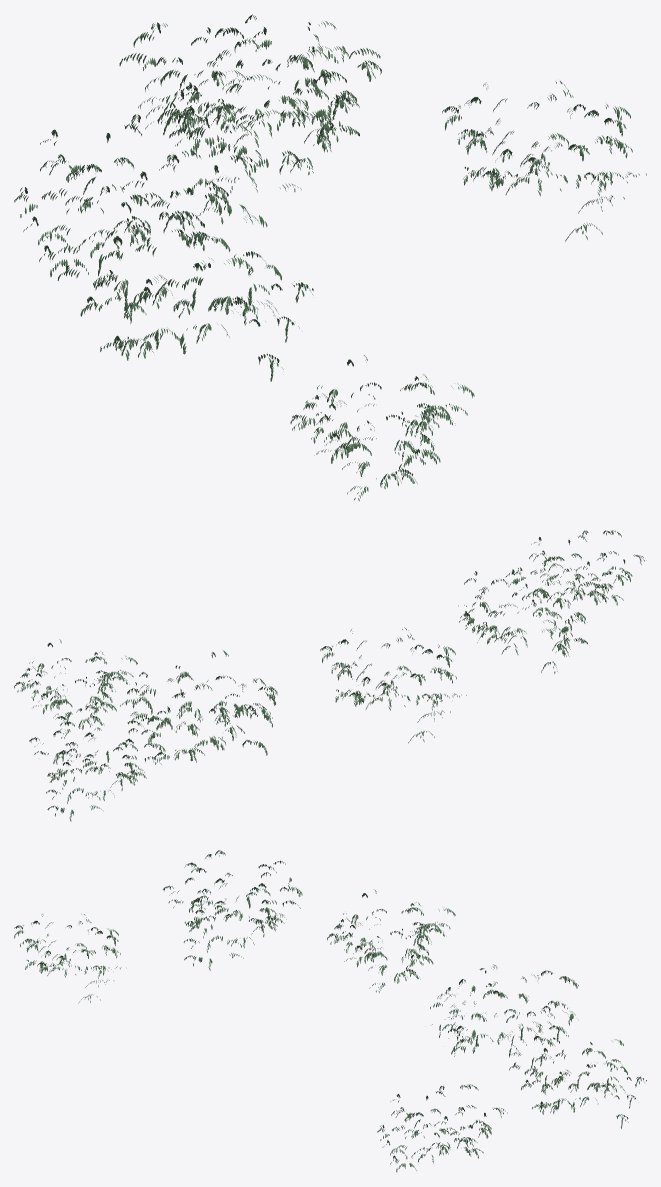
The model's file is eucalyptus--leaf-olive.glb.
3 views of the same model, one above another, from view 1: azimuth 30°, elevation 25°; view 2: azimuth 150°, elevation 25°; view 3: azimuth 270°, elevation 25° (orthographic). The views are drawn at different scales.
Parts seen in each view (by area): view 1: eucalyptus-4, eucalyptus-2, eucalyptus-1, eucalyptus-6, eucalyptus-3, eucalyptus-5; view 2: eucalyptus-2, eucalyptus-4, eucalyptus-6, eucalyptus-1, eucalyptus-3, eucalyptus-5; view 3: eucalyptus-4, eucalyptus-2, eucalyptus-1, eucalyptus-6, eucalyptus-3, eucalyptus-5.
Part boxes in pixels (bbox=[...]): eucalyptus-4: bbox=[57, 214, 313, 381]; eucalyptus-2: bbox=[119, 14, 351, 224]; eucalyptus-1: bbox=[14, 112, 258, 276]; eucalyptus-6: bbox=[182, 21, 381, 175]; eucalyptus-3: bbox=[442, 81, 646, 241]; eucalyptus-5: bbox=[290, 355, 474, 501]; eucalyptus-2: bbox=[120, 650, 277, 764]; eucalyptus-4: bbox=[458, 563, 603, 673]; eucalyptus-6: bbox=[29, 705, 165, 821]; eucalyptus-1: bbox=[320, 627, 466, 743]; eucalyptus-3: bbox=[14, 639, 137, 738]; eucalyptus-5: bbox=[514, 530, 646, 616]; eucalyptus-4: bbox=[163, 850, 302, 970]; eucalyptus-2: bbox=[430, 964, 578, 1066]; eucalyptus-1: bbox=[327, 889, 455, 992]; eucalyptus-6: bbox=[509, 1037, 646, 1128]; eucalyptus-3: bbox=[377, 1084, 507, 1172]; eucalyptus-5: bbox=[14, 914, 126, 1003].
Bounding box in the file's own units: 38.32 × 11.95 × 49.4.
